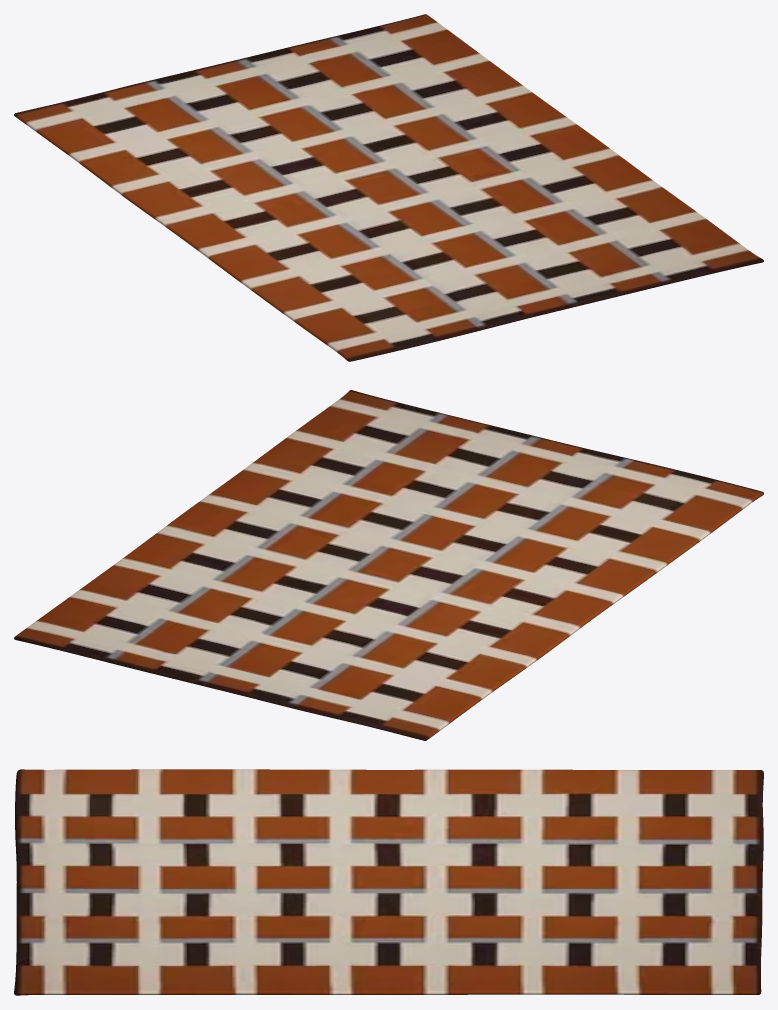
3 views of the same model, one above another, from view 1: azimuth 30°, elevation 25°; view 2: azimuth 150°, elevation 25°; view 3: azimuth 270°, elevation 25° (orthographic). The views are drawn at different scales.
Visible parts, largest first — view 1: 20593816_rug_flatwoven; view 2: 20593816_rug_flatwoven; view 3: 20593816_rug_flatwoven.
Part boxes in pixels (x1,y1,x2,y2): 20593816_rug_flatwoven: [14, 14, 763, 361]; 20593816_rug_flatwoven: [14, 390, 763, 740]; 20593816_rug_flatwoven: [14, 769, 763, 995].
Size of the model in its own units: 1.7 by 0.0149 by 2.4.
Materials: 1 (1 with a texture image).
